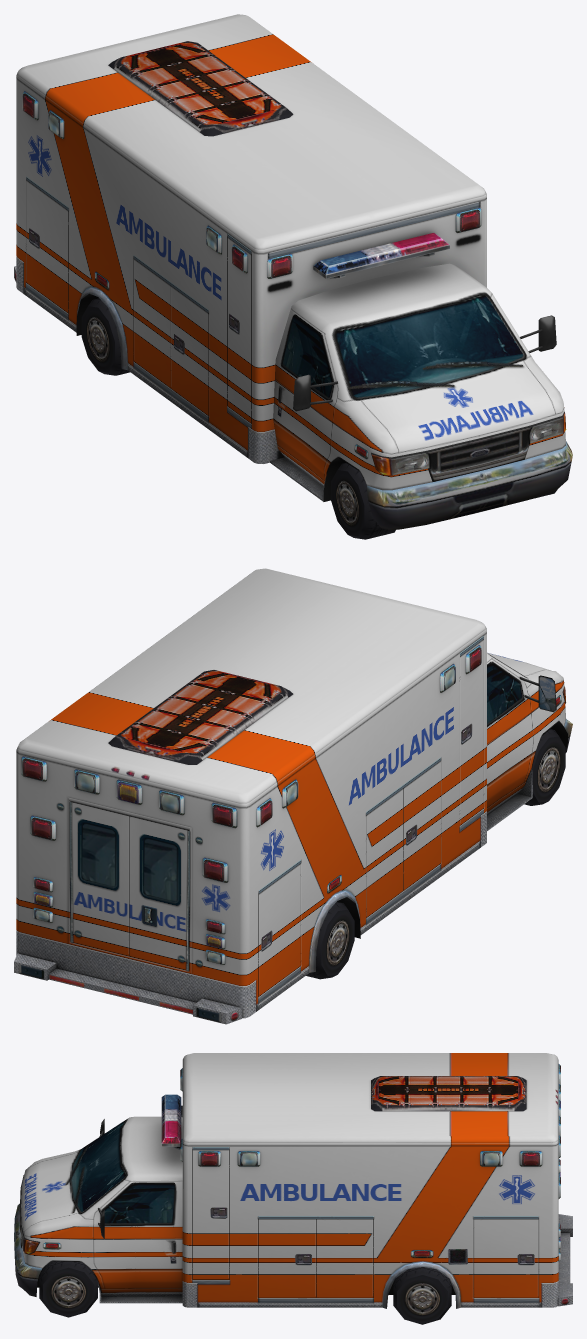
The model's file is traf_ambulance.fbx.
3 views of the same model, one above another, from view 1: azimuth 30°, elevation 25°; view 2: azimuth 150°, elevation 25°; view 3: azimuth 270°, elevation 25° (orthographic). The views are drawn at different scales.
Visible parts, largest first — view 1: traf_ambulance; view 2: traf_ambulance; view 3: traf_ambulance.
Boxes of the visible parts, bbox=[...] form: traf_ambulance: bbox=[14, 14, 572, 539]; traf_ambulance: bbox=[14, 568, 572, 1024]; traf_ambulance: bbox=[14, 1053, 572, 1324].
Size of the model in its own units: 265 by 240 by 632.
